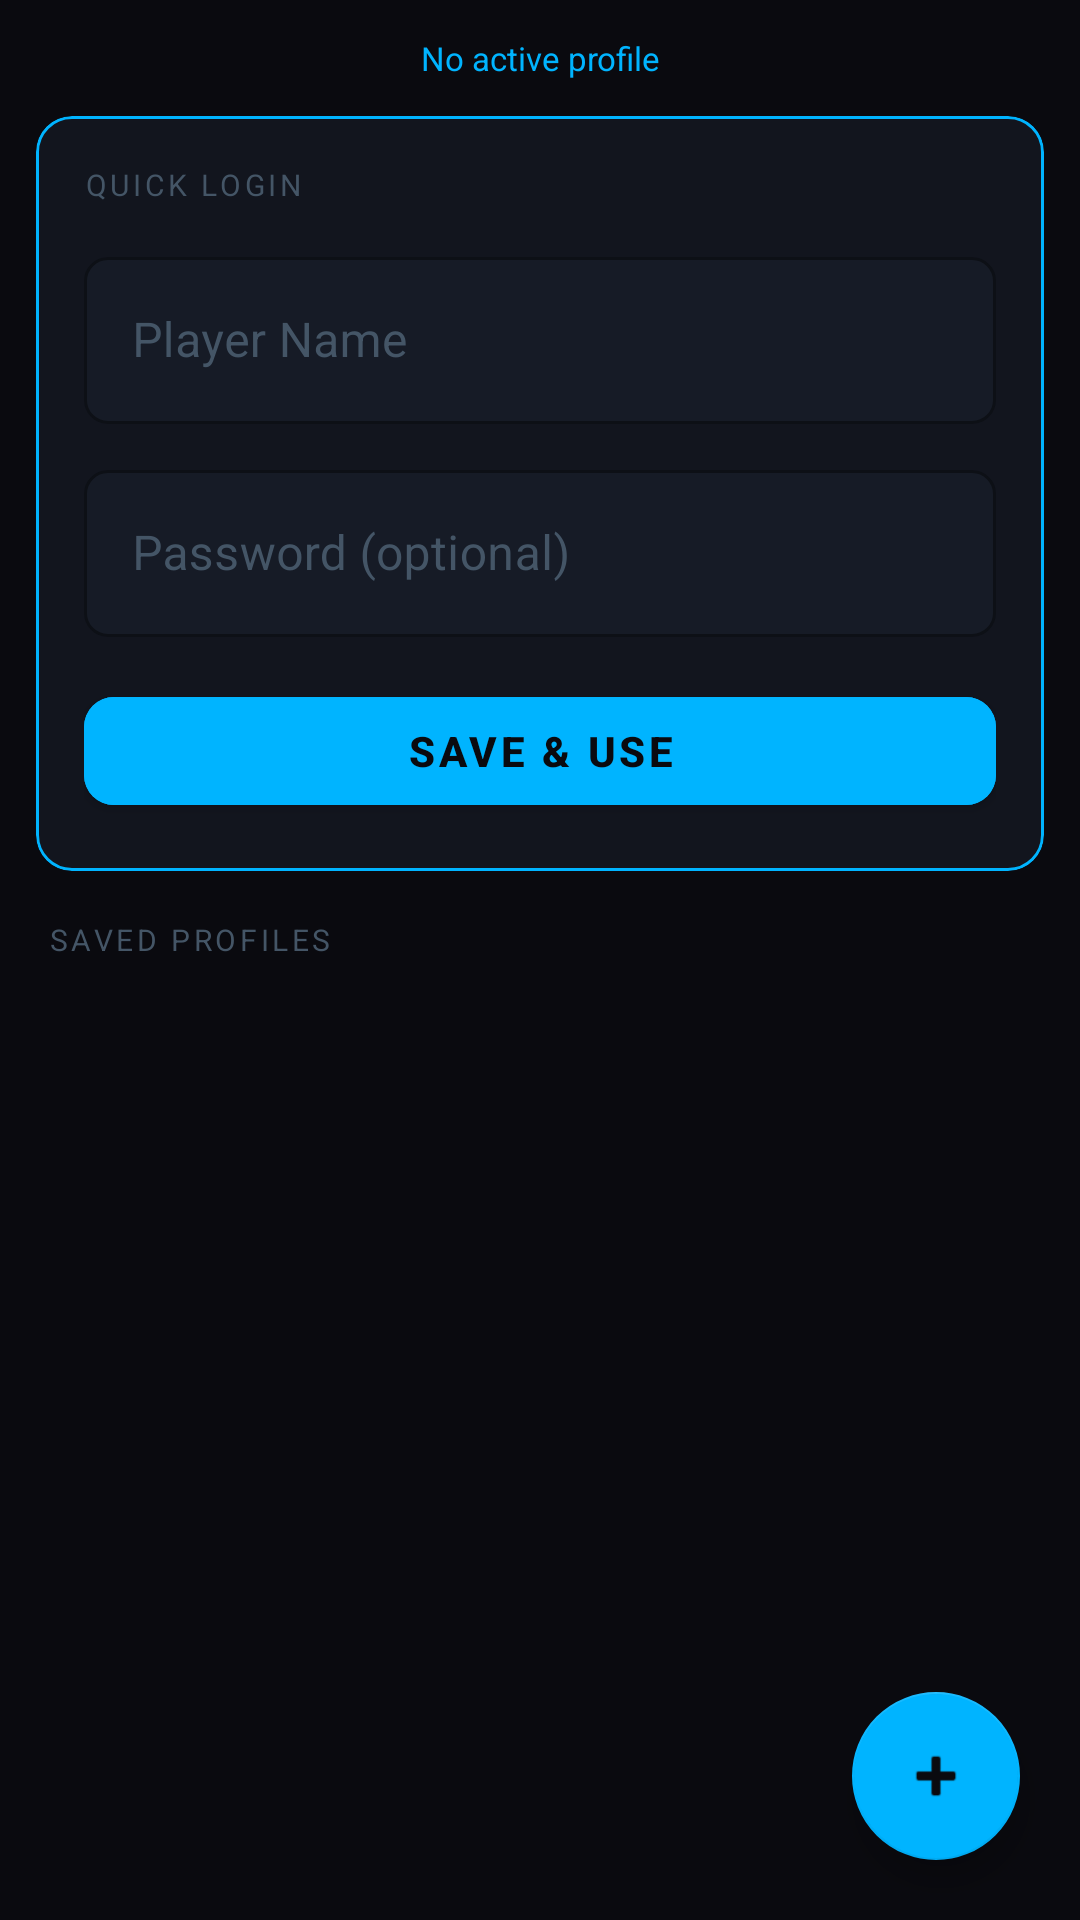

Icon bounding boxes for this 1080 x 1920 phone screenshot, format rect(x1, y1, x2, y2):
Create profile: rect(852, 1692, 1020, 1860)
